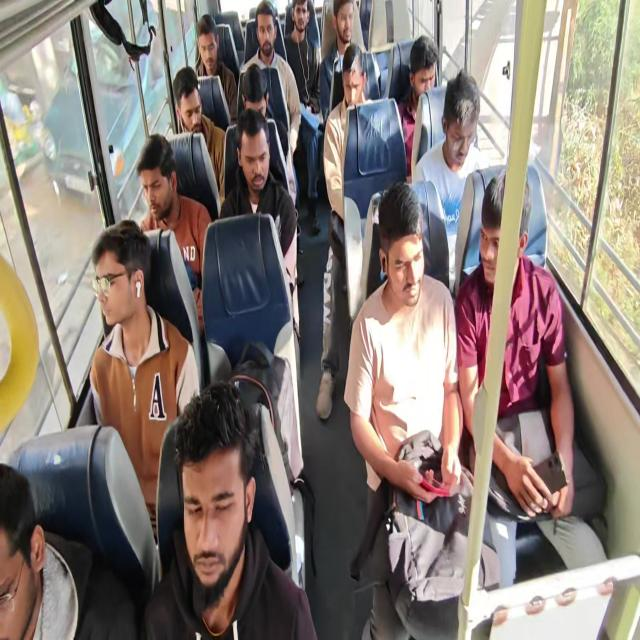person: (183, 424, 247, 580), (0, 457, 55, 608), (88, 238, 148, 334), (377, 215, 427, 303), (475, 199, 517, 283), (132, 153, 174, 218), (441, 95, 476, 167), (170, 77, 206, 135), (240, 121, 270, 186), (239, 75, 269, 121), (410, 53, 437, 103), (338, 66, 363, 116), (194, 22, 218, 64), (253, 18, 278, 56), (336, 4, 355, 52), (289, 1, 311, 34)
